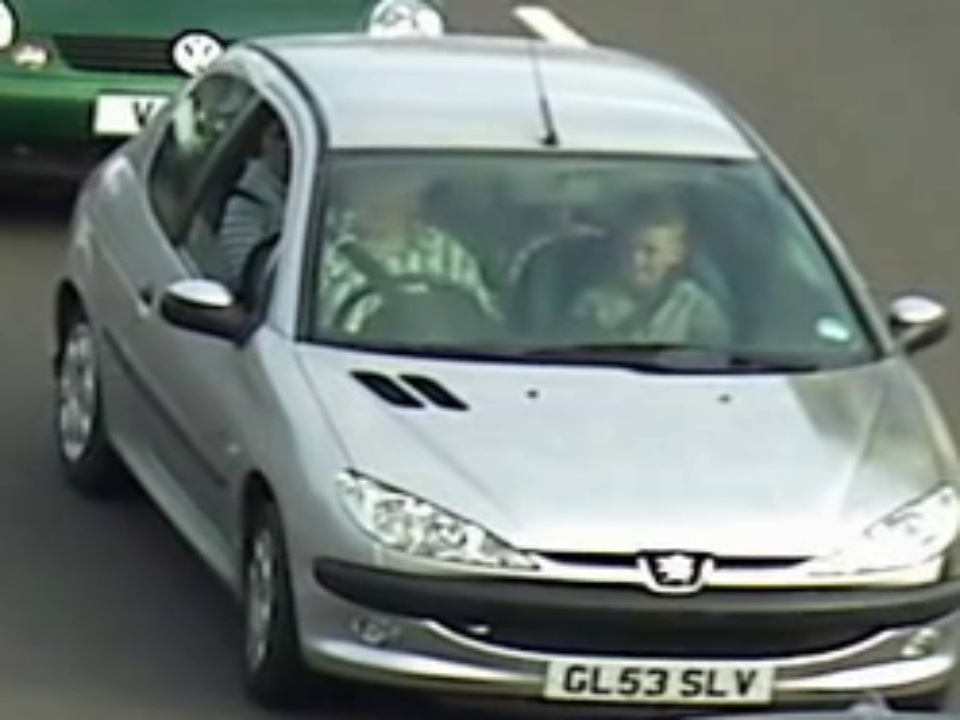TWO: (319, 157, 844, 359)
